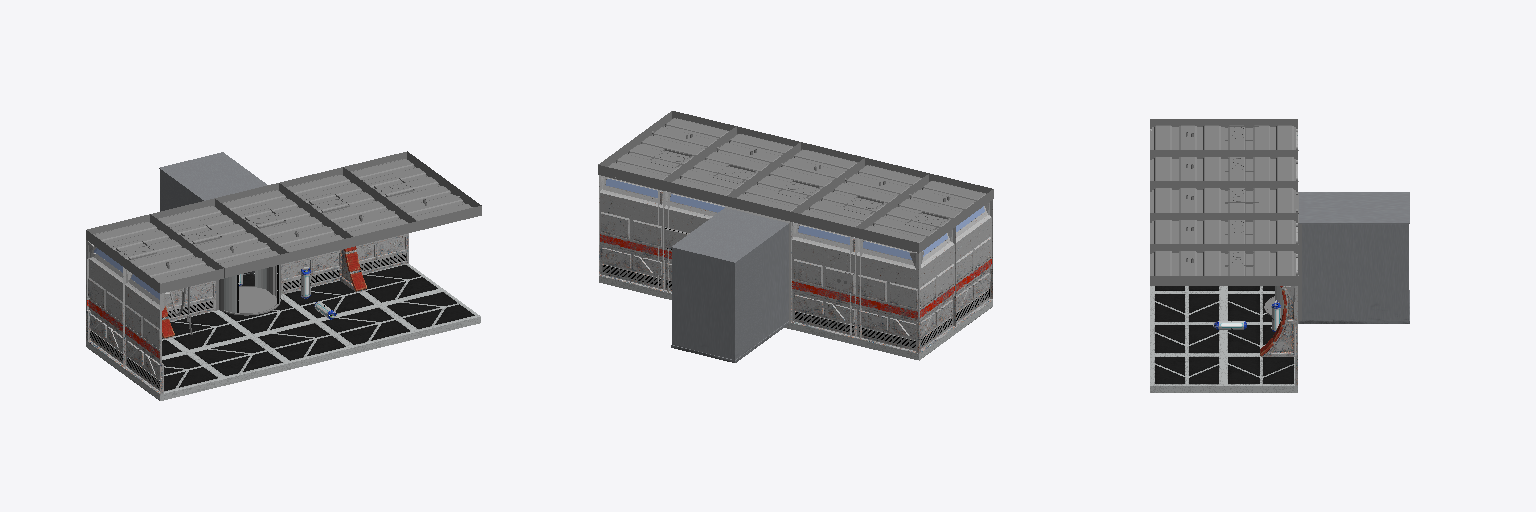
The picture shows the model from 3 angles: view 1: azimuth 30°, elevation 25°; view 2: azimuth 150°, elevation 25°; view 3: azimuth 270°, elevation 25°; orthographic projection.
Visible parts, largest first — view 1: CeilingSeg01, CeilingSeg005, CeilingSeg002, CeilingSeg003, CeilingSeg004, FloorSeg005, FloorSeg002, FloorSeg004, FloorSeg01, Storage, WallSeg007, WallSeg006 (+6 smaller); view 2: Storage, WallSeg005, WallSeg002, WallSeg003, CeilingSeg01, CeilingSeg004, CeilingSeg003, CeilingSeg002, CeilingSeg005, WallSeg006, WallSeg007, WallSeg004 (+1 smaller); view 3: Storage, CeilingSeg005, FloorSeg005, CeilingSeg002, CeilingSeg004, CeilingSeg003, CeilingSeg01, FloorSeg01, FloorSeg004, Pillar001, FloorSeg002, Doorway01.
Part boxes in pixels (x1,y1,x2,y2): CeilingSeg01: (86,214,223,293); CeilingSeg005: (344,151,481,230); CeilingSeg002: (151,198,288,277); CeilingSeg003: (215,183,352,261); CeilingSeg004: (280,167,416,246); FloorSeg005: (362,264,480,338); FloorSeg002: (169,311,288,385); FloorSeg004: (281,280,416,353); FloorSeg01: (217,296,352,369); Storage: (159,152,266,285); WallSeg007: (123,269,169,394); WallSeg006: (88,249,125,366); Storage: (671,208,788,362); WallSeg005: (599,175,664,290); WallSeg002: (791,222,856,337); WallSeg003: (855,238,923,353); CeilingSeg01: (855,173,993,252); CeilingSeg004: (662,126,799,205); CeilingSeg003: (727,142,864,221); CeilingSeg002: (791,158,928,236); CeilingSeg005: (598,111,735,189); WallSeg006: (909,227,955,353); WallSeg007: (953,200,992,326); WallSeg004: (663,191,726,292); Storage: (1299,192,1409,323); CeilingSeg005: (1150,244,1297,285); FloorSeg005: (1150,355,1297,392); CeilingSeg002: (1150,150,1297,181); CeilingSeg004: (1150,213,1297,243); CeilingSeg003: (1150,182,1297,212); CeilingSeg01: (1150,119,1297,149); FloorSeg01: (1150,292,1281,323); FloorSeg004: (1150,324,1274,354); Pillar001: (1261,286,1296,356); FloorSeg002: (1150,286,1274,291); Doorway01: (1264,192,1301,323).
Size of the model in its own units: 10.02 by 3.5 by 7.01.
12 materials, 8 textured.